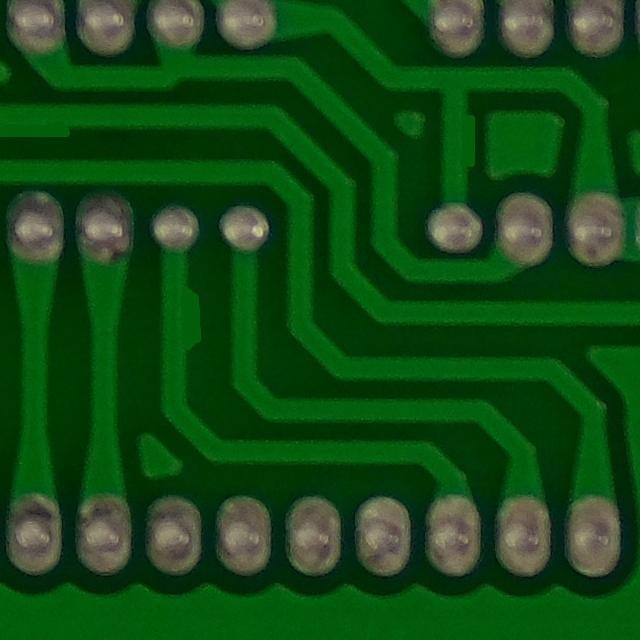spur: (0, 94, 98, 156), (155, 270, 216, 368), (435, 104, 488, 175)
